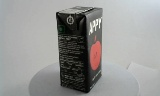appy: (51, 5, 97, 94)
